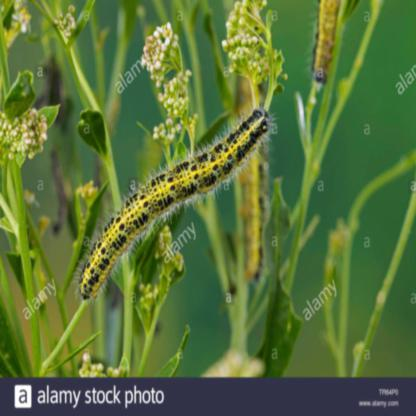pieris: (80, 113, 278, 304)
